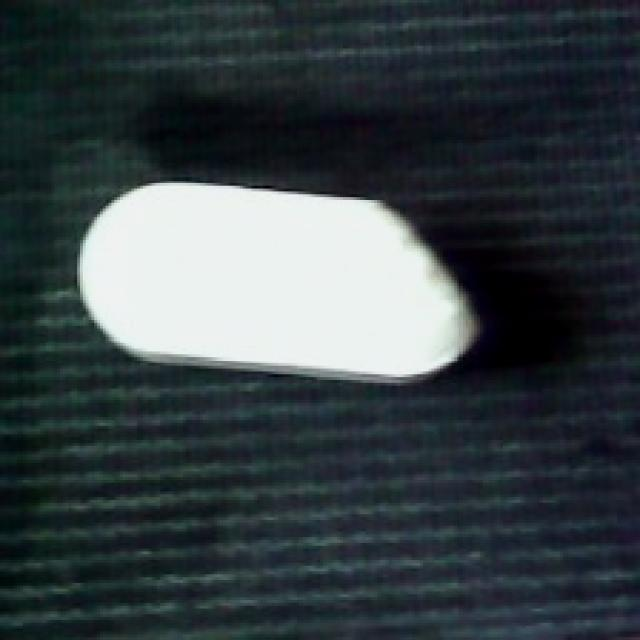defected: (77, 174, 483, 383)
